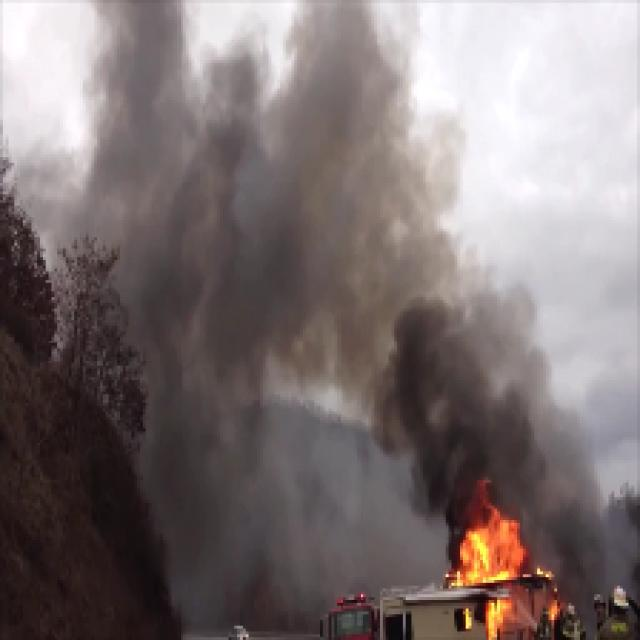fire: (459, 521, 520, 588)
smoke: (108, 126, 263, 428), (257, 105, 382, 393), (390, 315, 548, 508)
